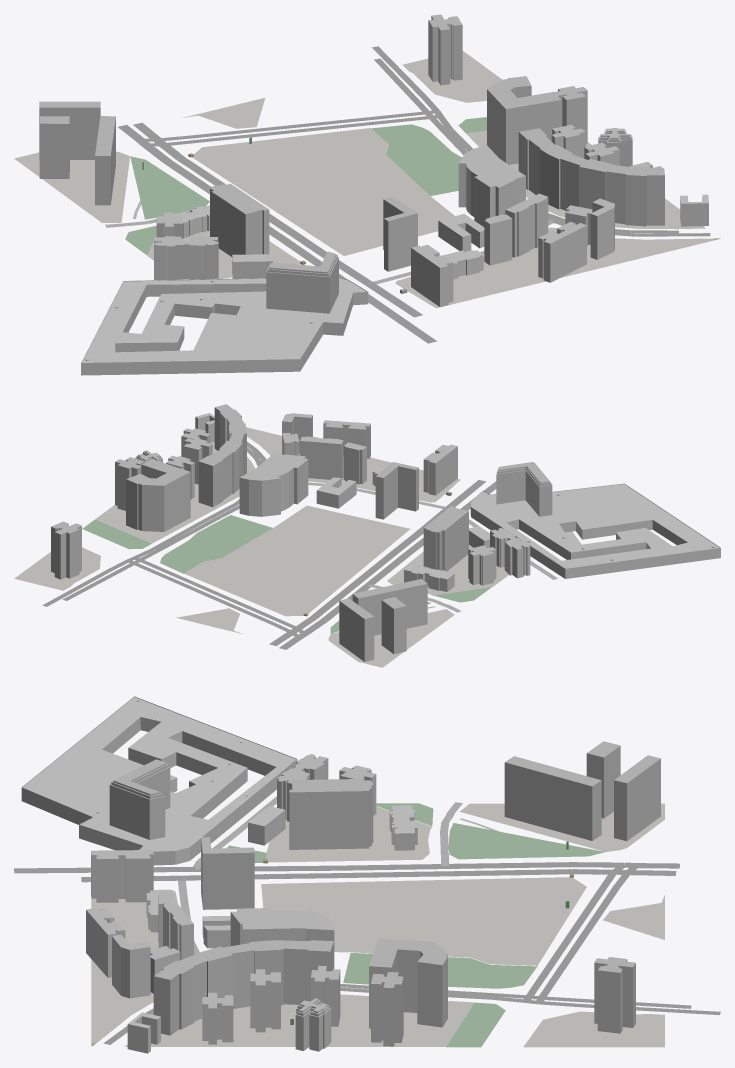
3 views of the same model, one above another, from view 1: azimuth 30°, elevation 25°; view 2: azimuth 150°, elevation 25°; view 3: azimuth 270°, elevation 25° (orthographic). The views are drawn at different scales.
Bounding box in the file's own units: 707 × 60.26 × 616.
